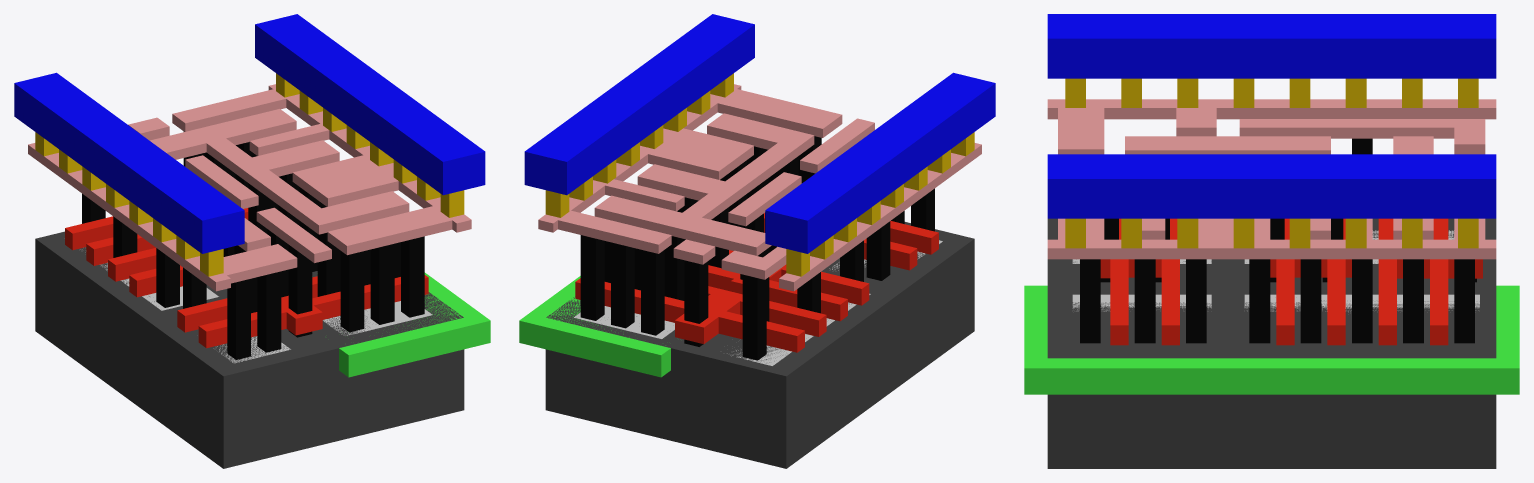
Rendered from sky130_fd_sc_hd__nand3_2.obj.
3 renders of one model, left to right at view 1: azimuth 30°, elevation 25°; view 2: azimuth 150°, elevation 25°; view 3: azimuth 270°, elevation 25°, orthographic. The views are drawn at different scales.
Parts seen in each view (by area): view 1: subs, li, metal1, licon, poly, nwell, mcon, diff, tap; view 2: subs, li, metal1, licon, poly, nwell, mcon, tap, diff; view 3: metal1, subs, li, nwell, licon, poly, mcon, tap.
Part boxes in pixels (left/top/right/bottom): subs: left=35, top=231, right=464, bottom=468; li: left=28, top=84, right=471, bottom=291; metal1: left=14, top=14, right=485, bottom=253; licon: left=82, top=131, right=424, bottom=359; poly: left=65, top=208, right=428, bottom=348; nwell: left=339, top=272, right=490, bottom=377; mcon: left=35, top=73, right=464, bottom=276; diff: left=80, top=249, right=290, bottom=363; tap: left=323, top=301, right=432, bottom=335; subs: left=545, top=222, right=974, bottom=468; li: left=538, top=84, right=981, bottom=291; metal1: left=524, top=14, right=995, bottom=253; licon: left=580, top=136, right=934, bottom=360; poly: left=575, top=213, right=938, bottom=352; nwell: left=519, top=276, right=670, bottom=377; mcon: left=545, top=73, right=974, bottom=276; tap: left=574, top=306, right=674, bottom=338; diff: left=727, top=240, right=942, bottom=365; metal1: left=1047, top=14, right=1496, bottom=218; subs: left=1047, top=218, right=1496, bottom=468; li: left=1047, top=99, right=1496, bottom=259; nwell: left=1024, top=285, right=1519, bottom=394; licon: left=1080, top=138, right=1476, bottom=343; poly: left=1100, top=218, right=1482, bottom=345; mcon: left=1065, top=78, right=1478, bottom=248; tap: left=1072, top=294, right=1479, bottom=312.
Bounding box in the file's own units: 3.2 × 2.74 × 4.06.
